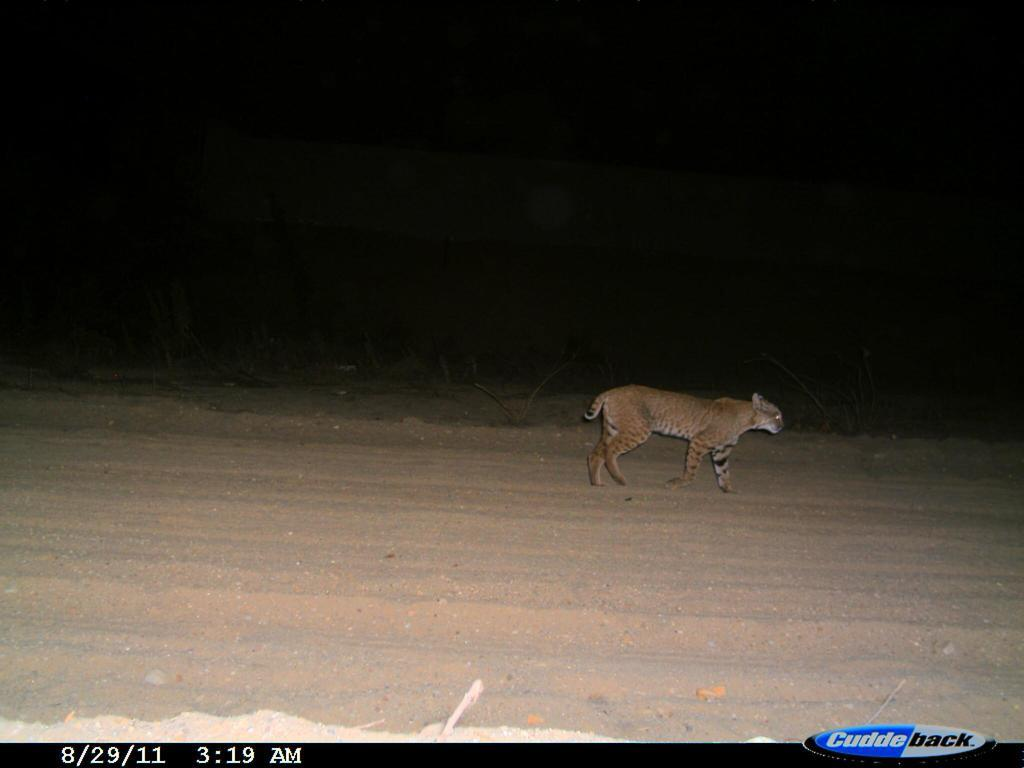bobcat: (579, 379, 794, 502)
